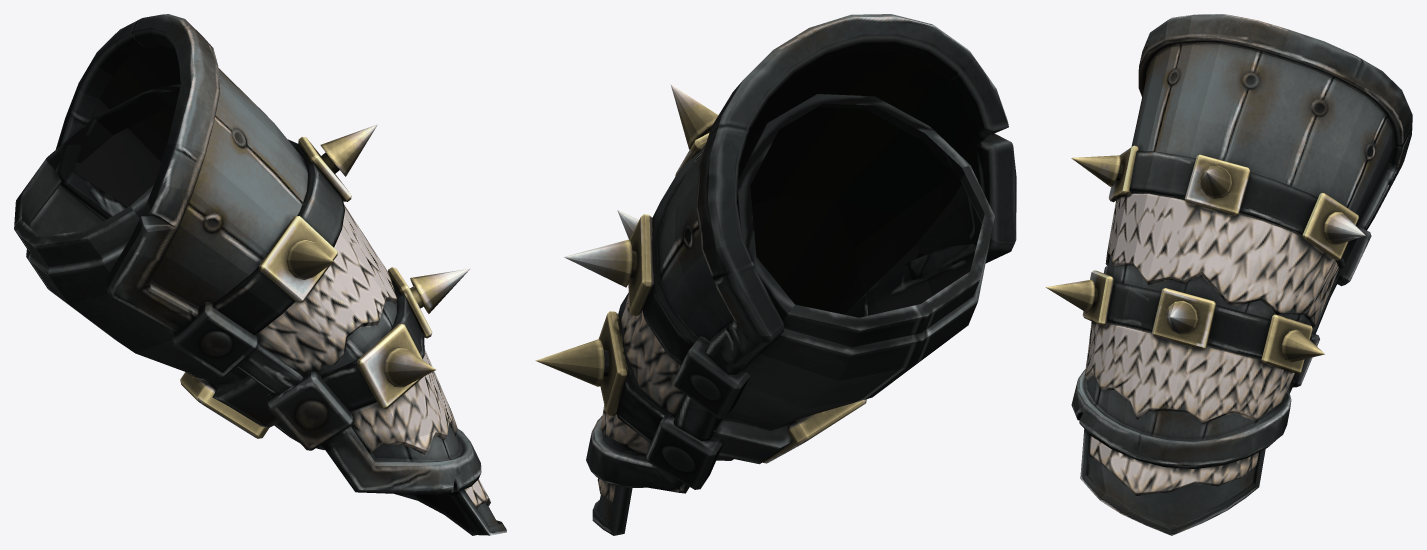
Rendered from sm_void_human_gauntlet_L.gltf.
3 renders of one model, left to right at view 1: azimuth 30°, elevation 25°; view 2: azimuth 150°, elevation 25°; view 3: azimuth 270°, elevation 25°, orthographic. The views are drawn at different scales.
Parts seen in each view (by area): view 1: sm_void_human_gauntlet_L; view 2: sm_void_human_gauntlet_L; view 3: sm_void_human_gauntlet_L.
Boxes of the visible parts, x1,y1,x2,y2 form: sm_void_human_gauntlet_L: (14, 14, 506, 535); sm_void_human_gauntlet_L: (535, 14, 1016, 535); sm_void_human_gauntlet_L: (1045, 14, 1412, 535).
Size of the model in its own units: 0.2883 by 0.3671 by 0.289.
Materials: 1 (1 with a texture image).
